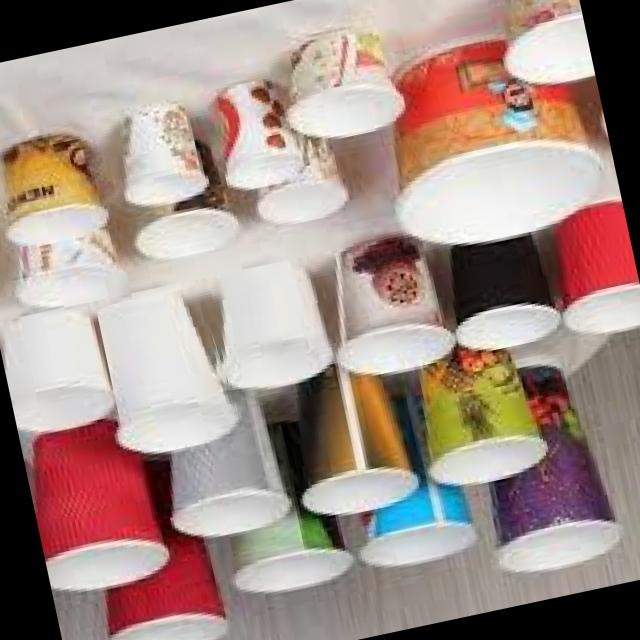PaperCardboard: (95, 294, 234, 453), (218, 265, 328, 384)
